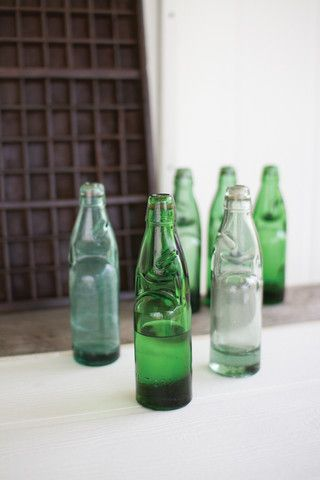Rec_Glass: (124, 190, 199, 413), (203, 183, 265, 379), (62, 182, 122, 373), (249, 165, 292, 306), (168, 164, 203, 312), (208, 164, 239, 304)
